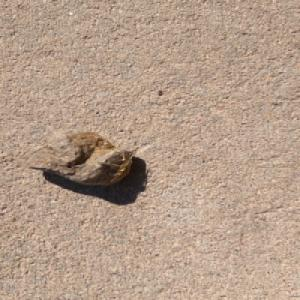Rock: (20, 127, 135, 186)
